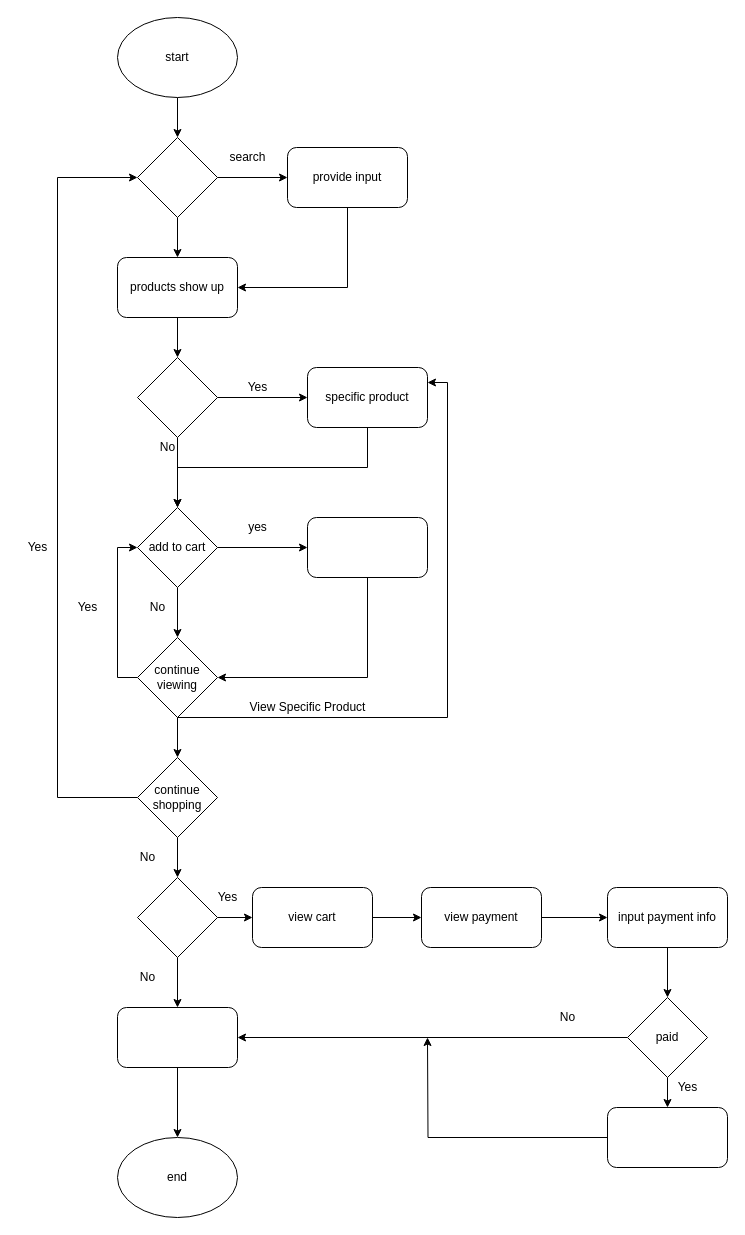
Some shapes in this 745 by 1235 pixel diagram are drawn without their labels. Here are the shapes that lost their labels. From the top down, the centre of each, then its label:
At pixel 177 177: "search or explore".
At pixel 177 397: "viewing".
At pixel 367 547: "confirmation".
At pixel 177 917: "checkout".
At pixel 177 1037: "leave the pag".
At pixel 667 1137: "order confirmation and email sent".
